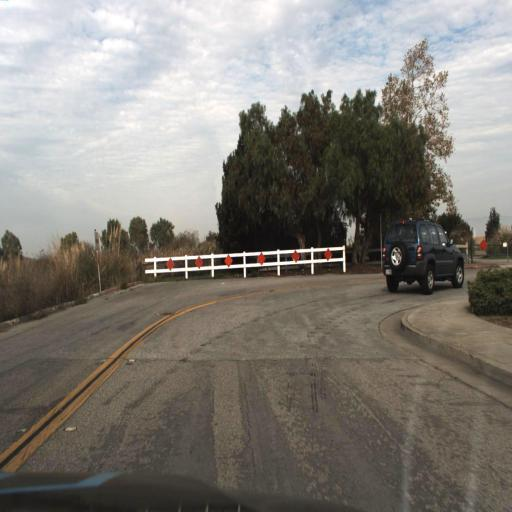car: (382, 214, 470, 292)
